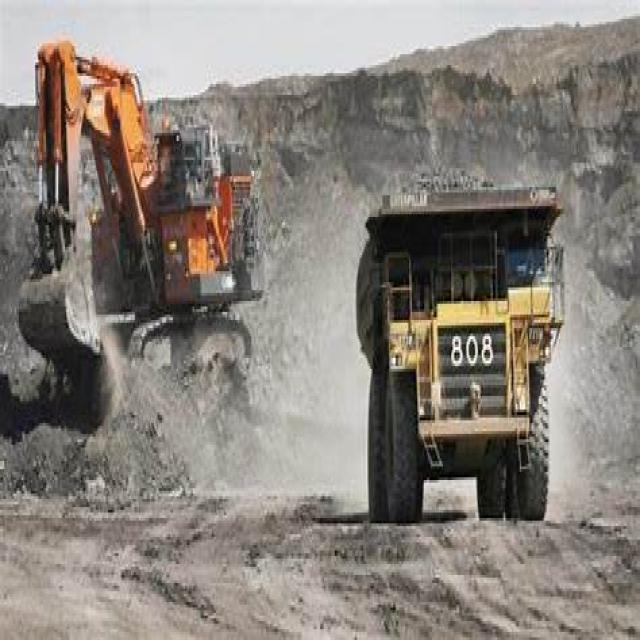dump_truck: (340, 114, 614, 637)
excavator: (15, 11, 283, 455)
